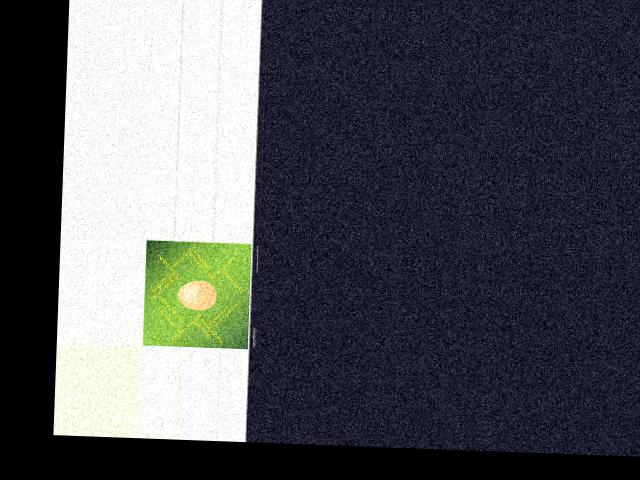egg: (177, 279, 216, 310)
